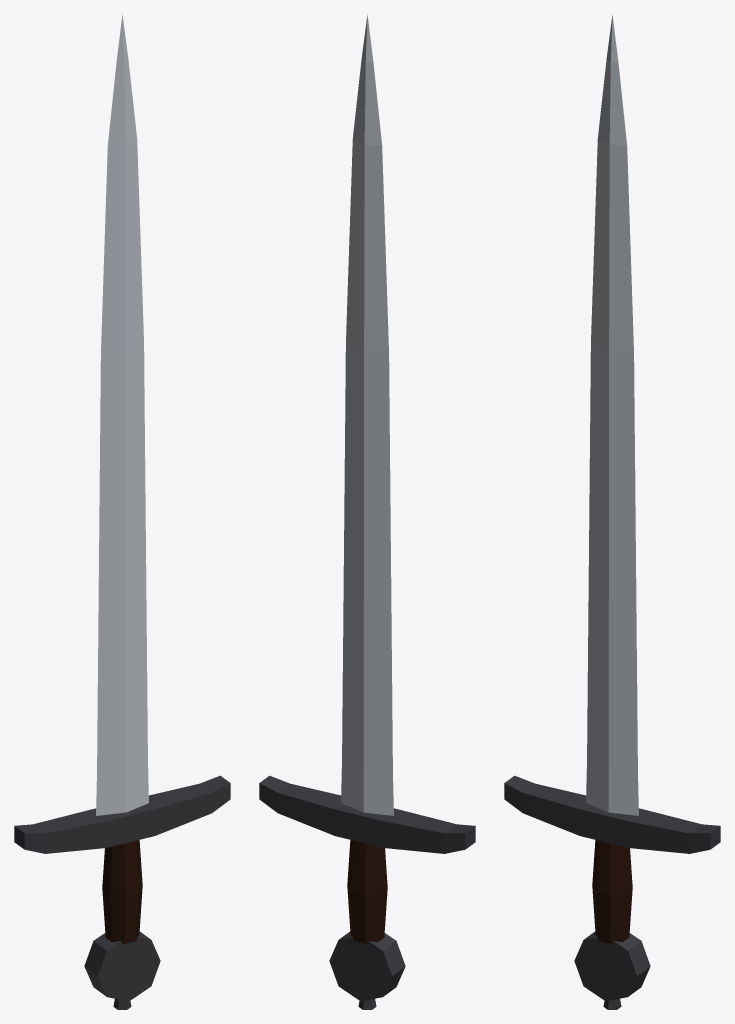
File: medieval_sword.obj
3 views of the same model, side by side, from view 1: azimuth 30°, elevation 25°; view 2: azimuth 150°, elevation 25°; view 3: azimuth 330°, elevation 25° (orthographic).
Parts seen in each view (by area): view 1: Blade, Guard, Pommel, Grip; view 2: Blade, Guard, Pommel, Grip; view 3: Blade, Guard, Pommel, Grip.
Part boxes in pixels (x1,y1,x2,y2): Blade: [96, 14, 148, 815]; Guard: [14, 775, 230, 853]; Pommel: [84, 931, 160, 1009]; Grip: [102, 840, 142, 943]; Blade: [341, 14, 393, 815]; Guard: [259, 775, 475, 853]; Pommel: [329, 931, 405, 1009]; Grip: [347, 840, 387, 943]; Blade: [586, 14, 638, 815]; Guard: [504, 775, 720, 853]; Pommel: [574, 931, 650, 1009]; Grip: [592, 840, 632, 943].
Size of the model in its own units: 0.21 by 0.967 by 0.0333.
